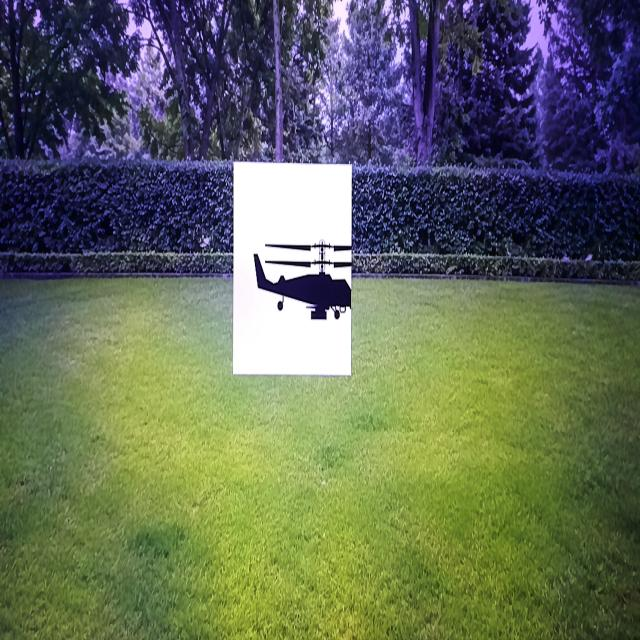Ka-52 Enemy: (254, 240, 351, 319)
